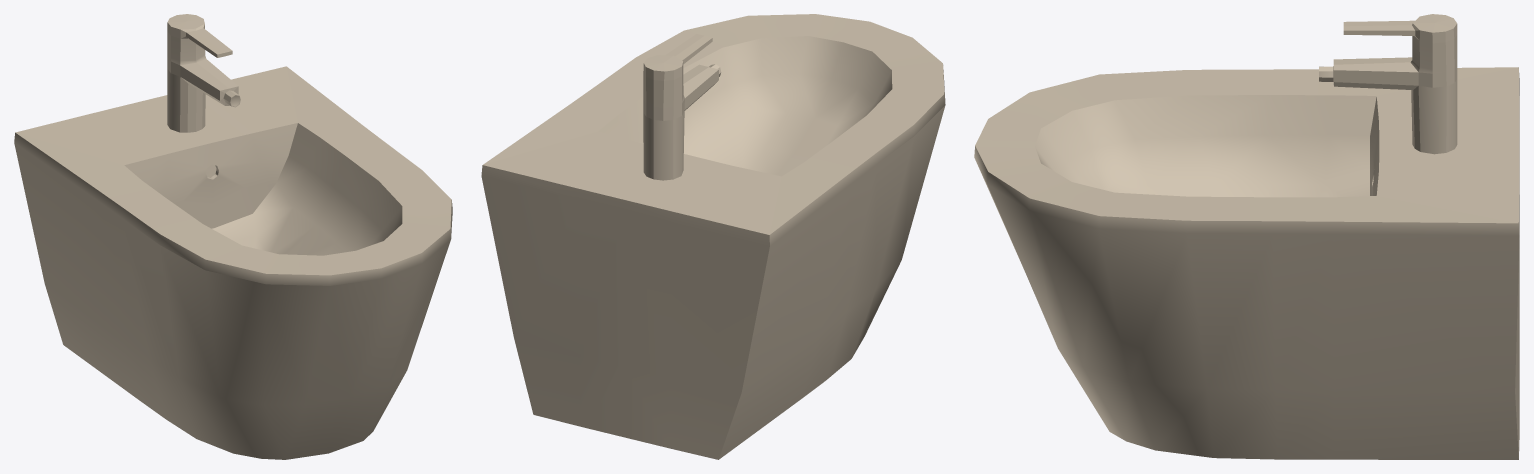
The model's file is bidet_19_L.fbx.
3 renders of one model, left to right at view 1: azimuth 30°, elevation 25°; view 2: azimuth 150°, elevation 25°; view 3: azimuth 270°, elevation 25°, orthographic. The views are drawn at different scales.
Visible parts, largest first — view 1: bidet_19_L; view 2: bidet_19_L; view 3: bidet_19_L.
Part boxes in pixels (<box>): bidet_19_L: <box>14,14,452,459</box>; bidet_19_L: <box>481,14,945,459</box>; bidet_19_L: <box>974,14,1519,459</box>.
Size of the model in its own units: 8.36 by 9.61 by 12.28.
